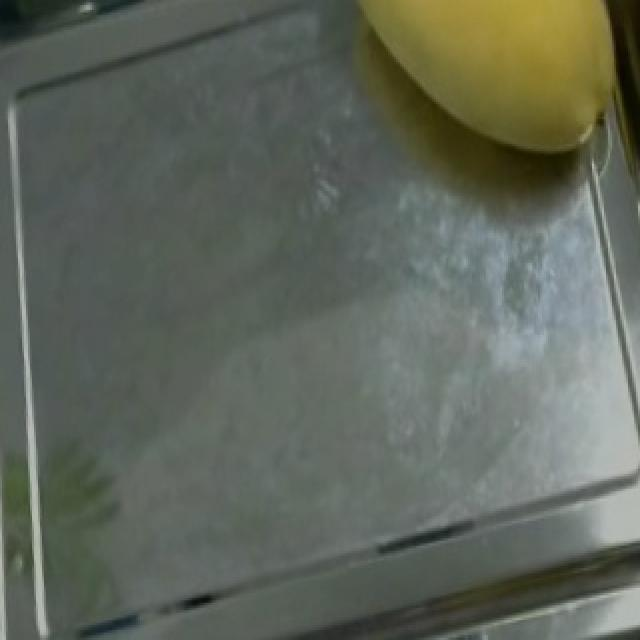fruit: (304, 0, 640, 198)
